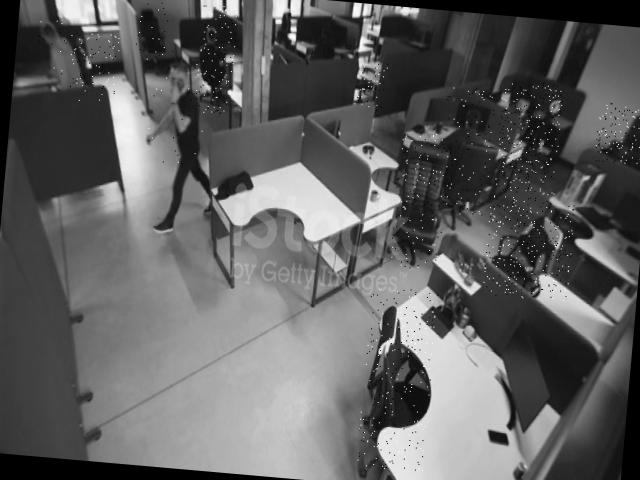empty chair: (356, 286, 438, 472), (482, 194, 575, 302), (389, 131, 454, 271), (67, 31, 120, 96), (129, 0, 173, 61), (356, 59, 388, 112)
occupiedchair: (493, 79, 563, 196), (436, 87, 496, 218), (194, 4, 238, 115), (594, 100, 640, 165)
